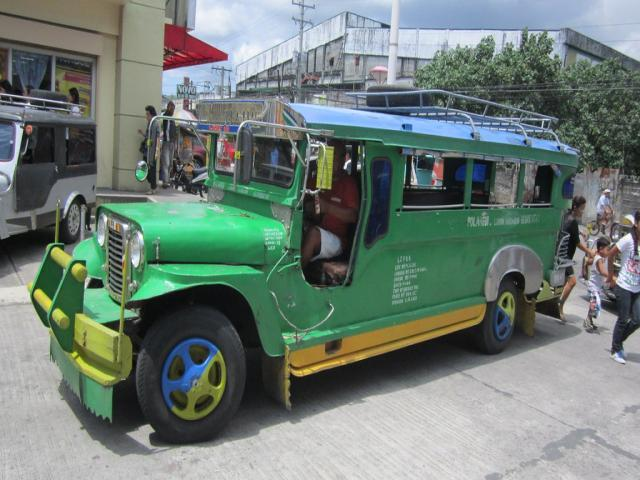jeepney: (29, 93, 578, 432)
